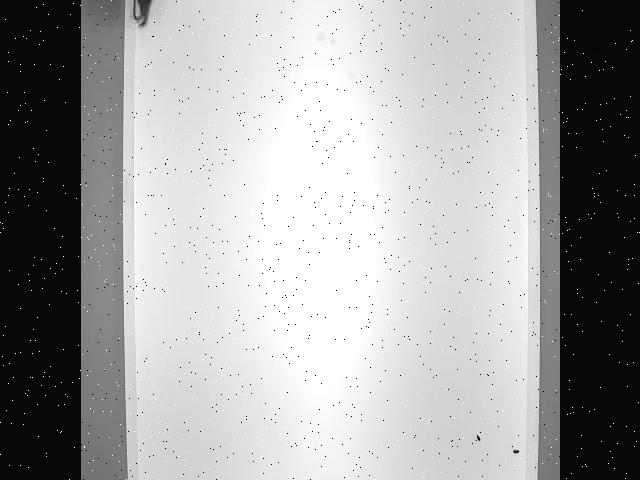Tikus: (117, 0, 163, 32)
